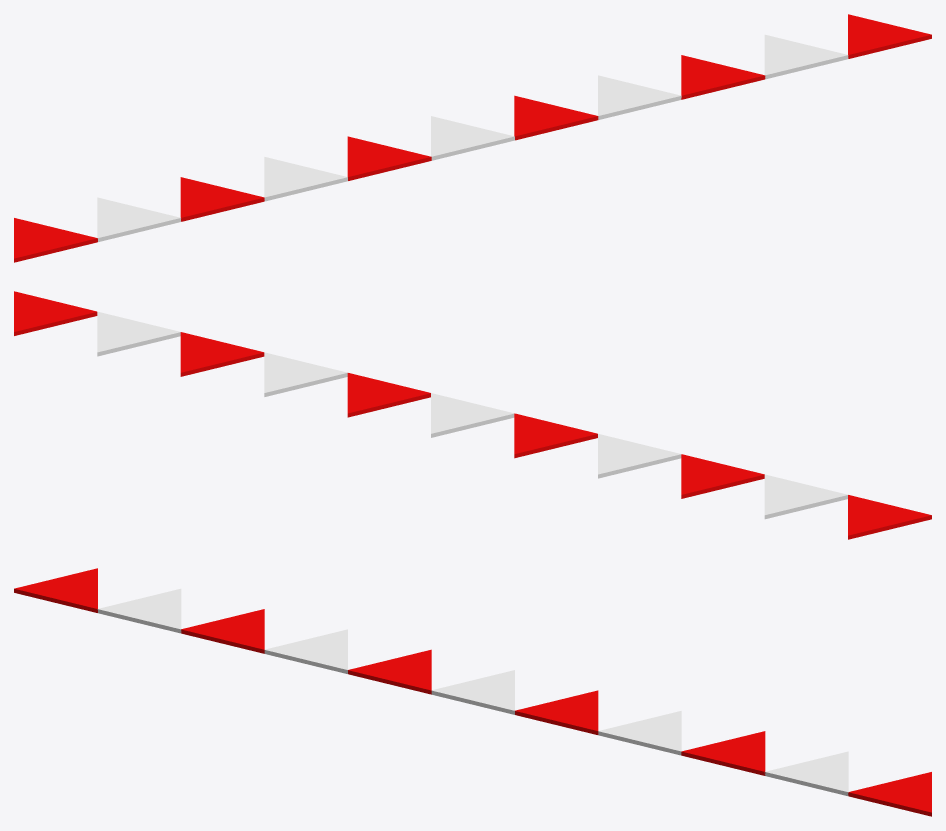
The model's file is house_template_10.fbx.
3 views of the same model, one above another, from view 1: azimuth 30°, elevation 25°; view 2: azimuth 150°, elevation 25°; view 3: azimuth 330°, elevation 25° (orthographic).
Visible parts, largest first — view 1: house template_10; view 2: house template_10; view 3: house template_10.
Part boxes in pixels (bbox=[...]): house template_10: bbox=[14, 14, 931, 262]; house template_10: bbox=[14, 291, 931, 539]; house template_10: bbox=[14, 568, 931, 816].
Size of the model in its own units: 505 by 2.16 by 39.96.
